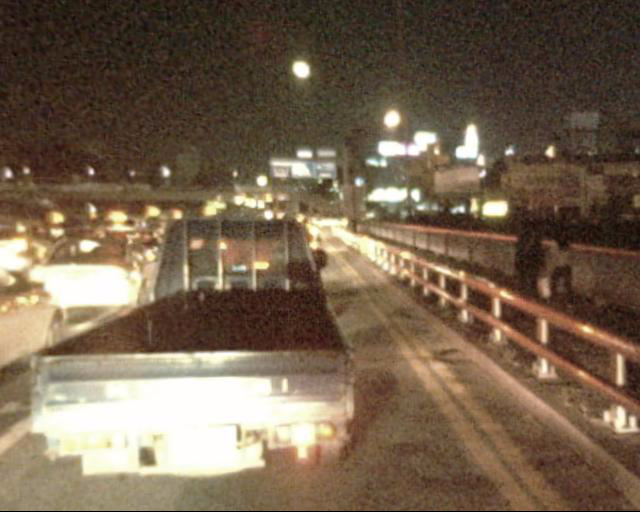person: (513, 217, 550, 322), (546, 220, 582, 319)
